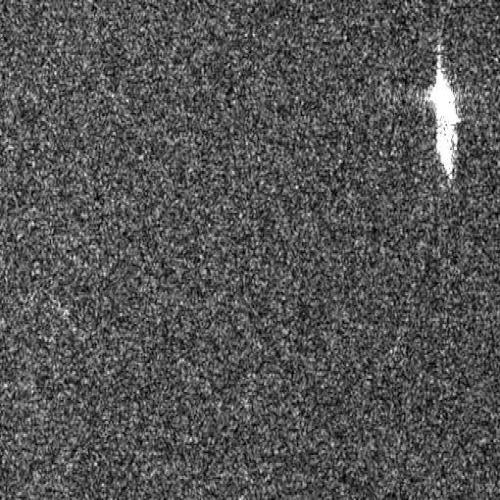ship: (429, 69, 457, 183)
